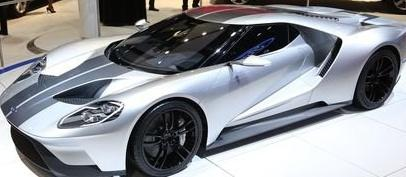Cars: (1, 8, 406, 177)
